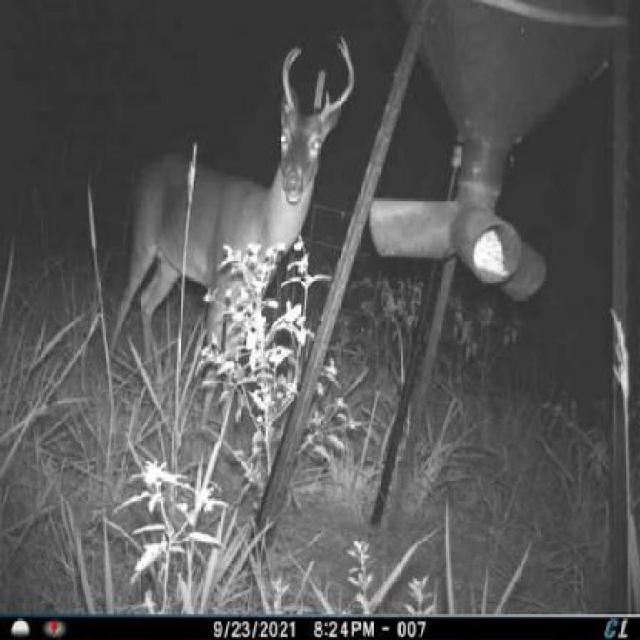Deer: (116, 36, 358, 410)
